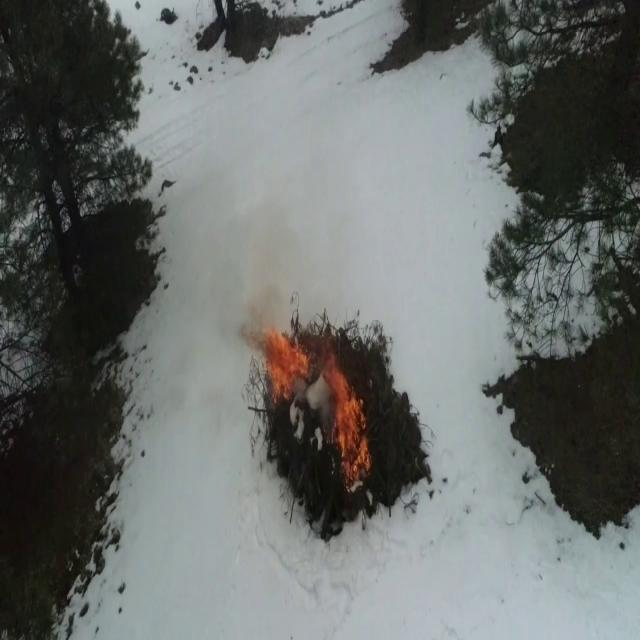fire: (331, 367, 373, 484), (261, 324, 306, 396)
